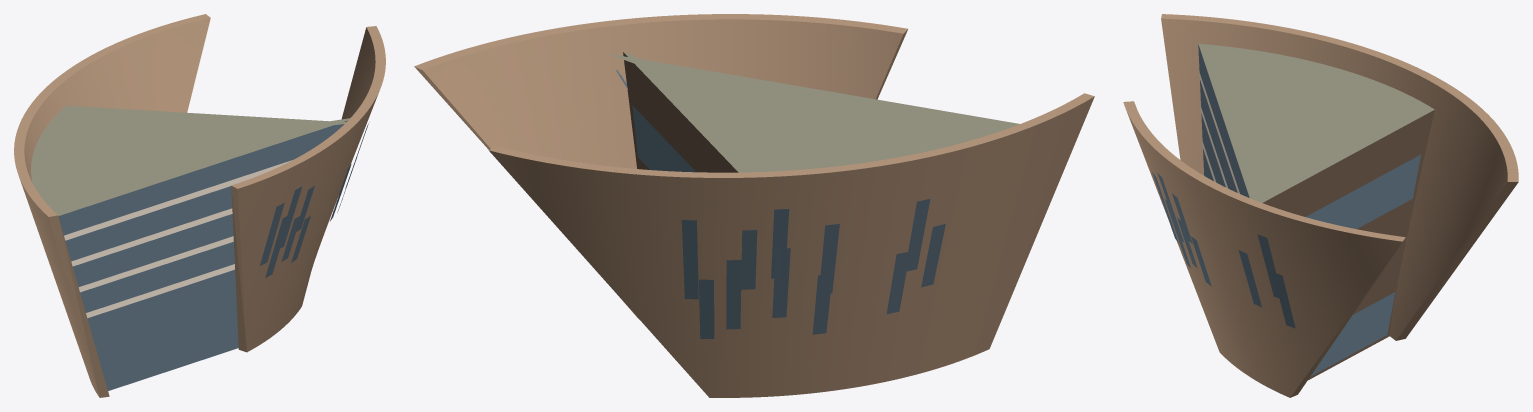
File: atl-civil-and-human-rights.glb
3 views of the same model, side by side, from view 1: azimuth 30°, elevation 25°; view 2: azimuth 150°, elevation 25°; view 3: azimuth 270°, elevation 25° (orthographic). The views are drawn at different scales.
Visible parts, largest first — view 1: National Center for Civil and Human Rights; view 2: National Center for Civil and Human Rights; view 3: National Center for Civil and Human Rights.
Part boxes in pixels (x1,y1,x2,y2): National Center for Civil and Human Rights: (14,14,385,397); National Center for Civil and Human Rights: (414,14,1094,397); National Center for Civil and Human Rights: (1123,14,1518,397).
Bounding box in the file's own units: 49.02 × 22.3 × 35.99.
